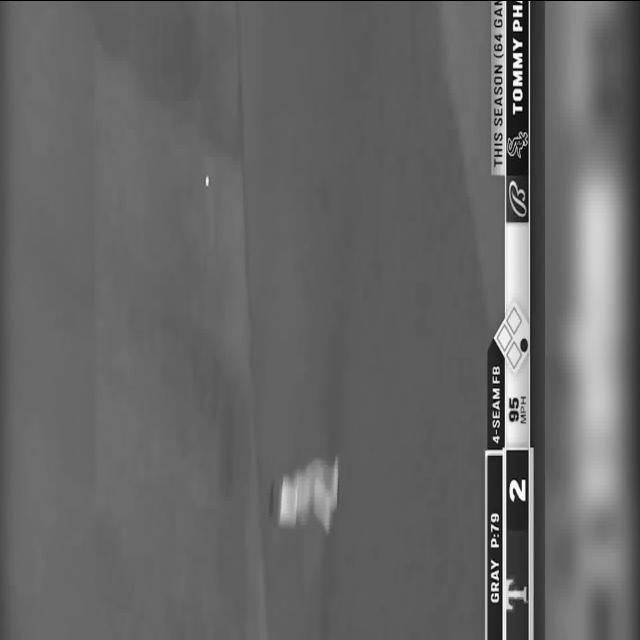baseball: (205, 173, 210, 187)
